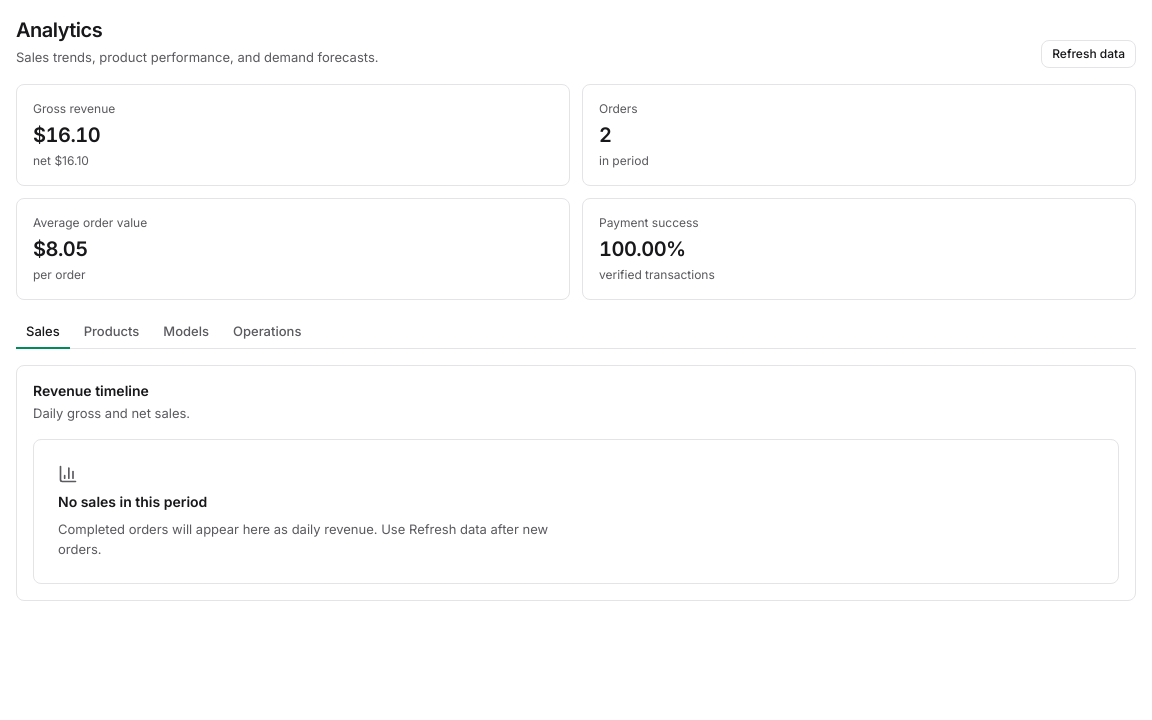
Test case: Analytics dashboard — Models tab crash guard › renders trained models and predictions without crashing
expect the text "Gross revenue" is shown: met, box [33, 100, 115, 116]
// Switch to the Models tab — previously blank-screened with real data.
Click the tab "Models": x=186, y=332 [153, 316, 219, 349]
(page scrolled)
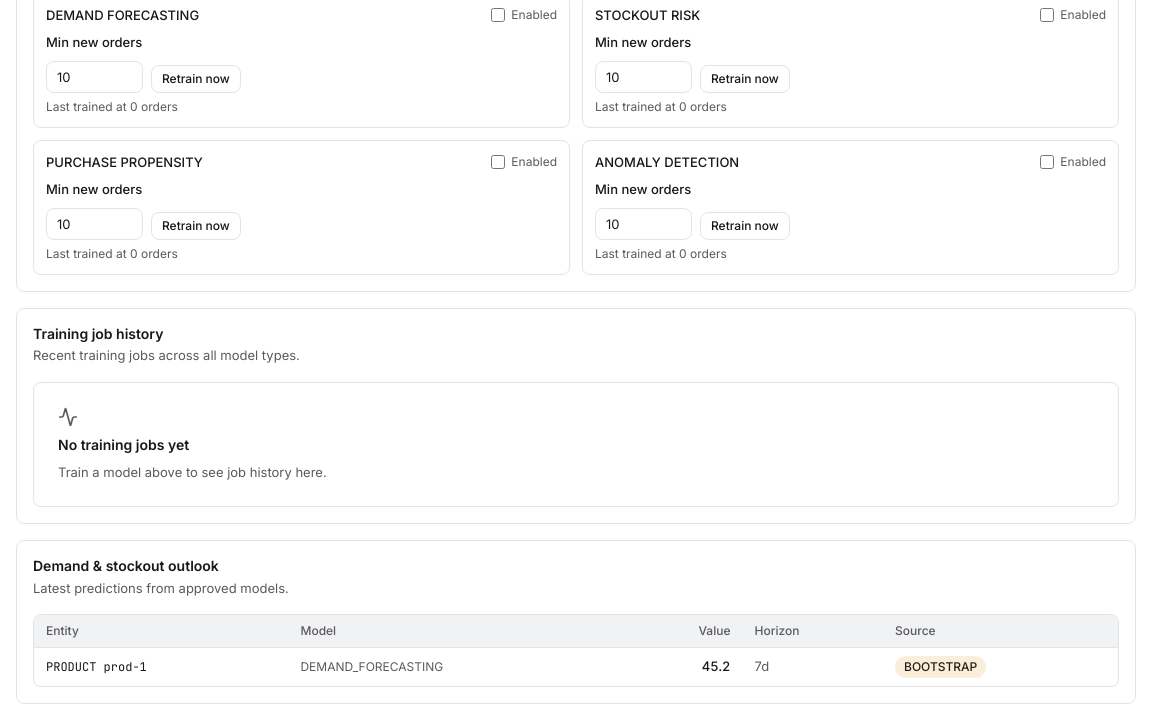
expect the text "45.2" is shown: met, box [628, 648, 742, 686]
